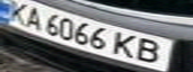0: (54, 15, 75, 43)
6: (87, 25, 112, 52), (39, 11, 63, 37), (72, 20, 93, 47)
A: (18, 3, 48, 30)
B: (130, 36, 172, 65)
K: (112, 29, 142, 60), (0, 1, 33, 25)
